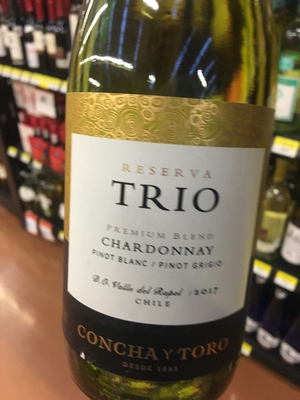trio chardonnay: (51, 15, 277, 400)
